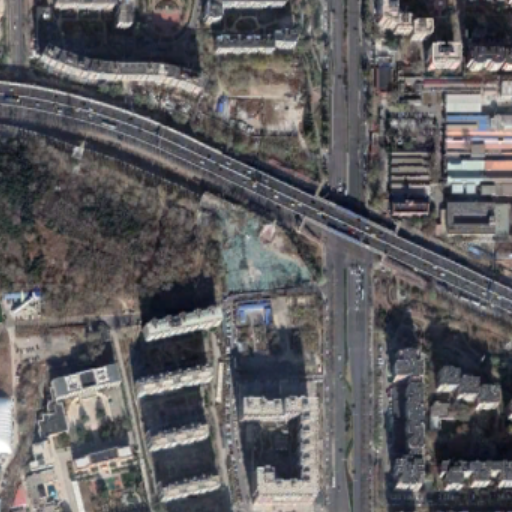cw: (207, 209, 317, 295)
